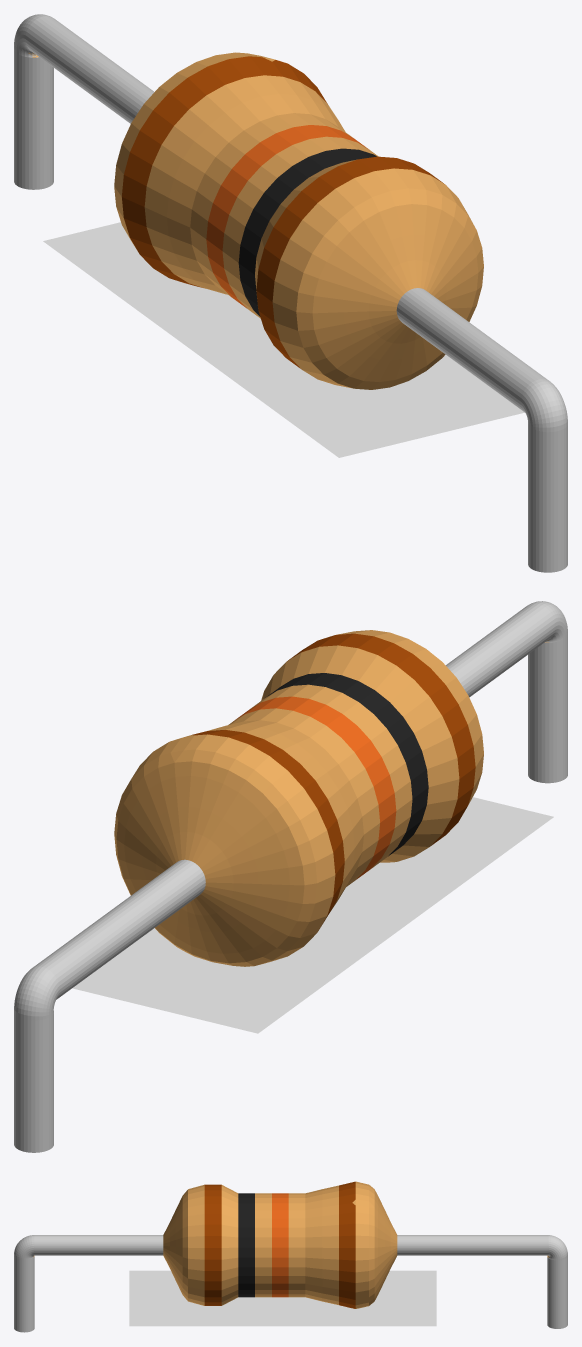
The model's file is R3_tan_4.gltf.
3 views of the same model, one above another, from view 1: azimuth 30°, elevation 25°; view 2: azimuth 150°, elevation 25°; view 3: azimuth 270°, elevation 25° (orthographic). The views are drawn at different scales.
Parts seen in each view (by area): view 1: R3_tan_4, R3_tan_4_plane; view 2: R3_tan_4, R3_tan_4_plane; view 3: R3_tan_4, R3_tan_4_plane.
Boxes of the visible parts, left/top/right/bottom form: R3_tan_4: left=14, top=14, right=567, bottom=572; R3_tan_4_plane: left=43, top=222, right=524, bottom=457; R3_tan_4: left=14, top=601, right=567, bottom=1152; R3_tan_4_plane: left=72, top=797, right=553, bottom=1033; R3_tan_4: left=14, top=1181, right=567, bottom=1332; R3_tan_4_plane: left=129, top=1270, right=436, bottom=1326.
Bounding box in the file's own units: 0.0161 × 0.0189 × 0.0676.
